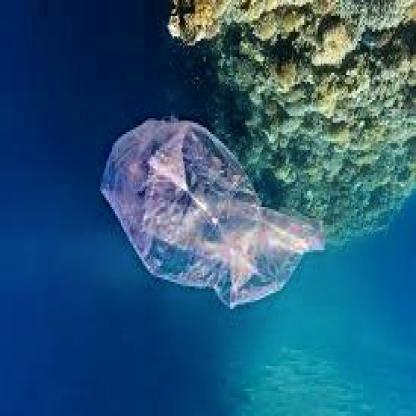pbag: (100, 116, 327, 312)
